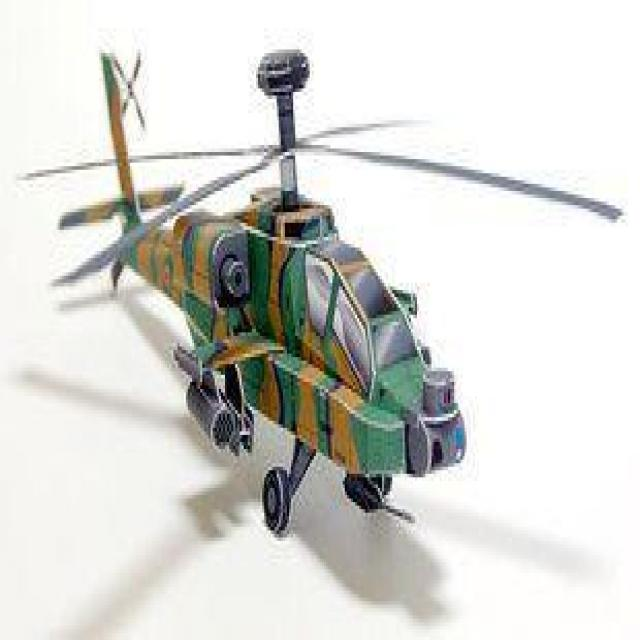MIL_HELO: (23, 35, 627, 554)
